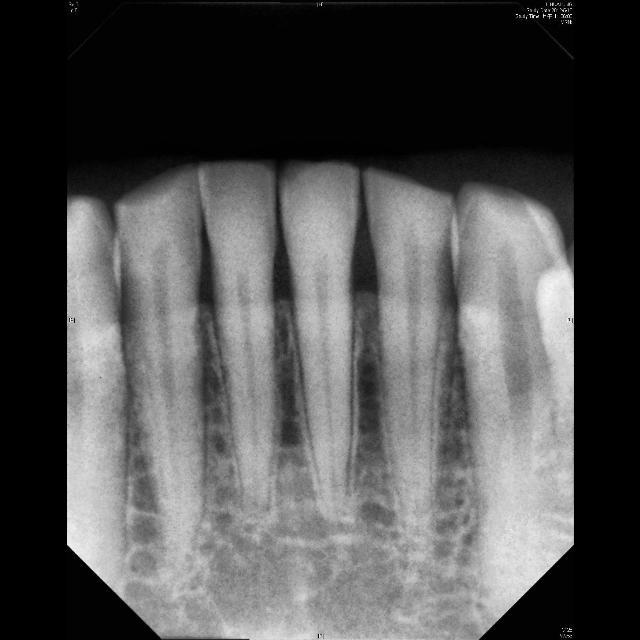tooth: (115, 167, 203, 568), (362, 168, 452, 532), (279, 163, 357, 520), (198, 162, 275, 511)
